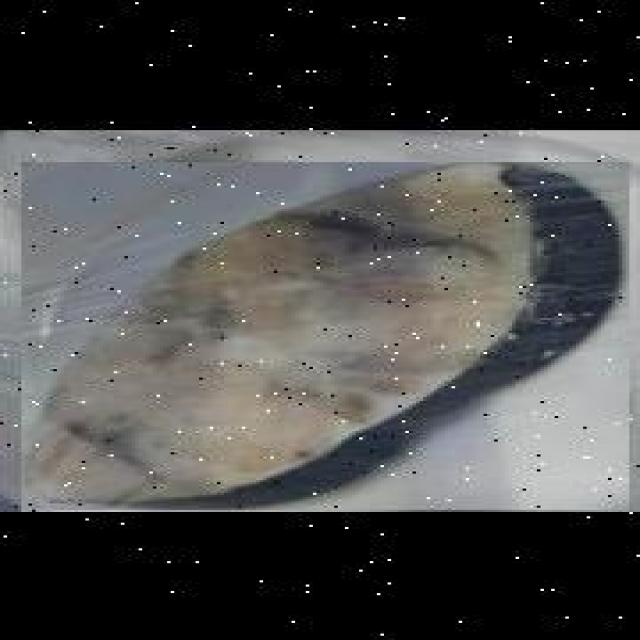fish: (21, 162, 630, 512)
